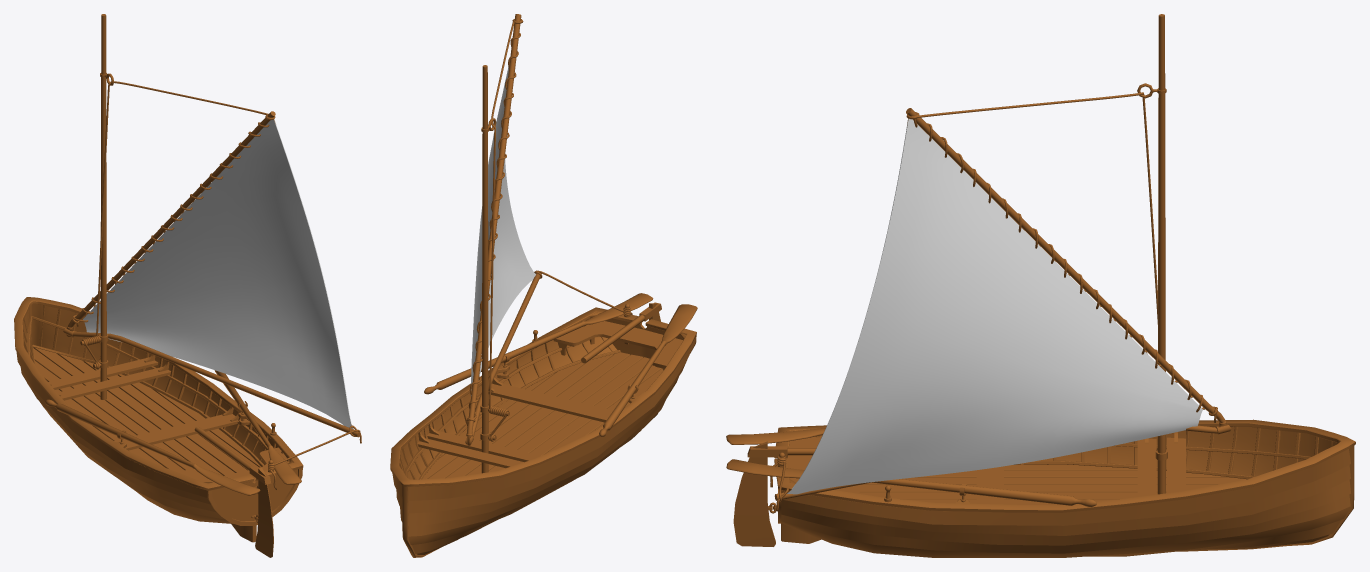
The model's file is boat.glb.
3 views of the same model, side by side, from view 1: azimuth 30°, elevation 25°; view 2: azimuth 150°, elevation 25°; view 3: azimuth 270°, elevation 25° (orthographic). The views are drawn at different scales.
Visible parts, largest first — view 1: Plane.004_Boat_0; view 2: Plane.004_Boat_0; view 3: Plane.004_Boat_0.
Boxes of the visible parts, x1,y1,x2,y2 form: Plane.004_Boat_0: (14,14,361,557); Plane.004_Boat_0: (390,14,697,557); Plane.004_Boat_0: (726,14,1355,557).
Bounding box in the file's own units: 5.25 × 11.14 × 11.9.
